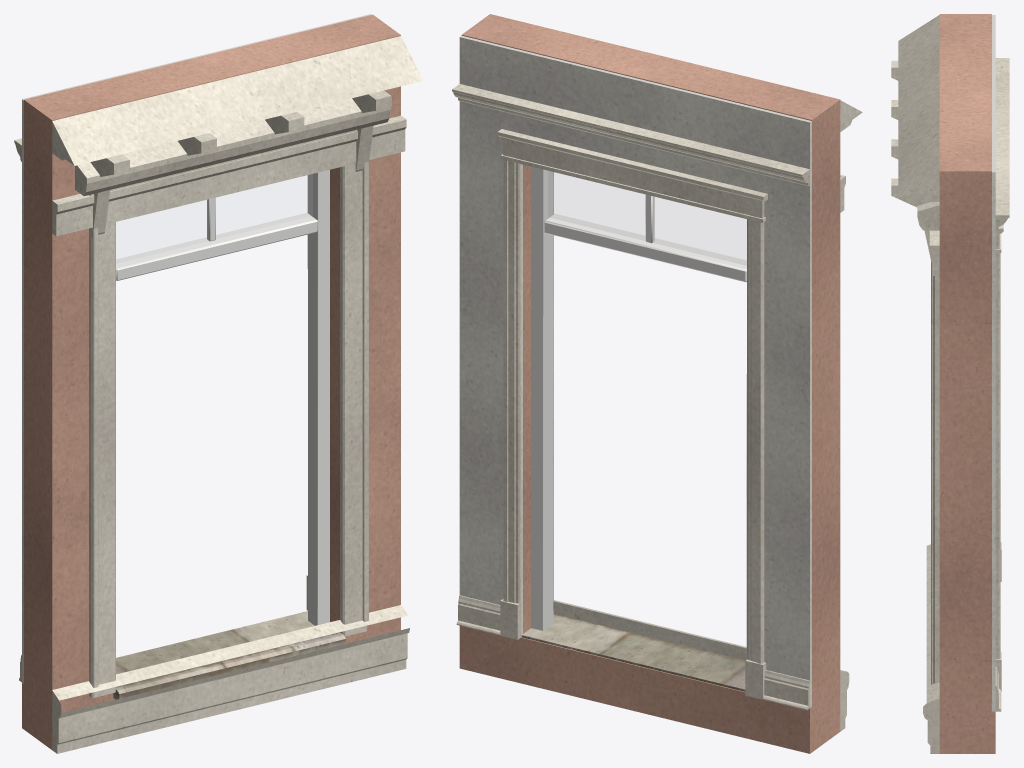
Rendered from u_wall_balcony.glb.
3 views of the same model, side by side, from view 1: azimuth 30°, elevation 25°; view 2: azimuth 150°, elevation 25°; view 3: azimuth 270°, elevation 25° (orthographic). The views are drawn at different scales.
Visible parts, largest first — view 1: u_wall_balcony_trim, u_wall_balcony_render, u_wall_balcony_frame, u_wall_balcony_glass, u_wall_balcony_stone2, u_wall_balcony_plaster; view 2: u_wall_balcony_plaster, u_wall_balcony_render, molduras, u_wall_balcony_frame, u_wall_balcony_glass, u_wall_balcony_stone2, u_wall_balcony_trim; view 3: u_wall_balcony_render, u_wall_balcony_trim, molduras, u_wall_balcony_plaster.
Part boxes in pixels (x1=…): u_wall_balcony_trim: x1=52, y1=36, x2=423, y2=753; u_wall_balcony_render: x1=22, y1=14, x2=400, y2=749; u_wall_balcony_frame: x1=116, y1=170, x2=329, y2=625; u_wall_balcony_glass: x1=116, y1=174, x2=312, y2=262; u_wall_balcony_stone2: x1=113, y1=611, x2=345, y2=699; u_wall_balcony_plaster: x1=22, y1=14, x2=371, y2=683; u_wall_balcony_plaster: x1=459, y1=35, x2=811, y2=707; u_wall_balcony_render: x1=459, y1=14, x2=840, y2=753; molduras: x1=452, y1=84, x2=809, y2=710; u_wall_balcony_frame: x1=531, y1=166, x2=747, y2=659; u_wall_balcony_glass: x1=548, y1=171, x2=746, y2=264; u_wall_balcony_stone2: x1=521, y1=614, x2=745, y2=691; u_wall_balcony_trim: x1=553, y1=100, x2=862, y2=731; u_wall_balcony_render: x1=939, y1=14, x2=995, y2=753; u_wall_balcony_trim: x1=891, y1=15, x2=939, y2=753; molduras: x1=995, y1=58, x2=1009, y2=711; u_wall_balcony_plaster: x1=992, y1=15, x2=995, y2=711.
Size of the model in its own units: 2 by 3.45 by 0.635.
Materials: 6 (4 with a texture image).
